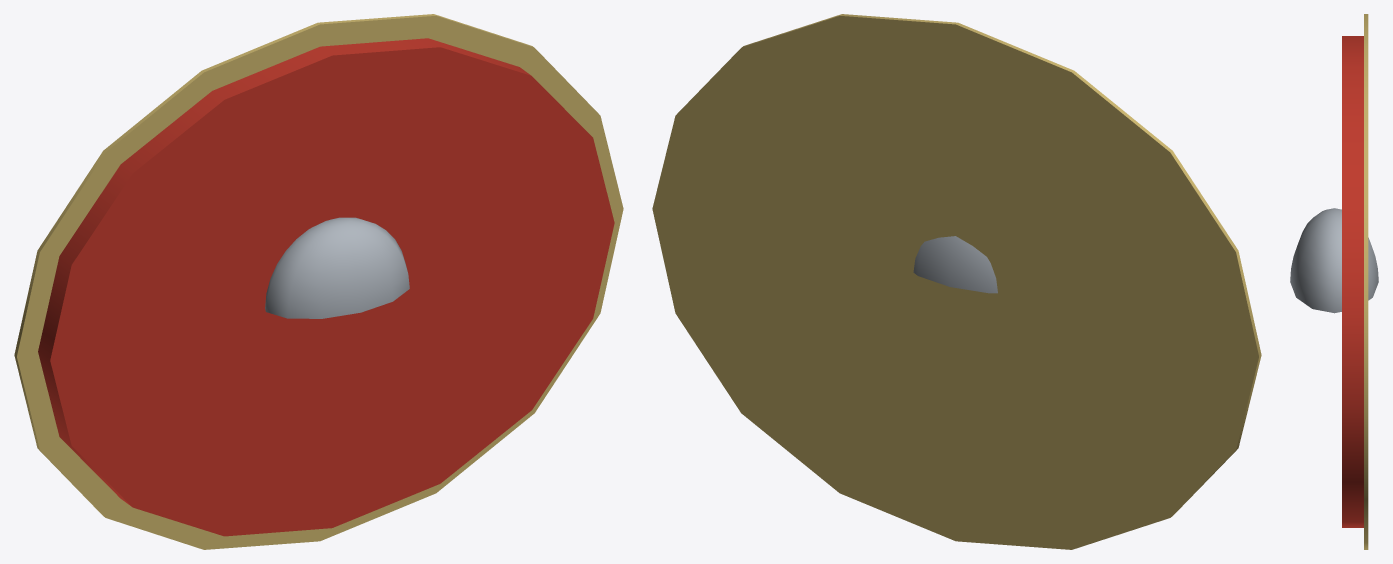
Rendered from shield.glb.
The picture shows the model from 3 angles, left to right: view 1: azimuth 30°, elevation 25°; view 2: azimuth 150°, elevation 25°; view 3: azimuth 270°, elevation 25°; orthographic projection. The views are drawn at different scales.
Visible parts, largest first — view 1: shield; view 2: shield; view 3: shield.
Boxes of the visible parts, x1=… form: shield: x1=14, y1=14, x2=623, y2=549; shield: x1=652, y1=14, x2=1261, y2=549; shield: x1=1290, y1=14, x2=1378, y2=549.
Bounding box in the file's own units: 0.43 × 0.35 × 0.06.
